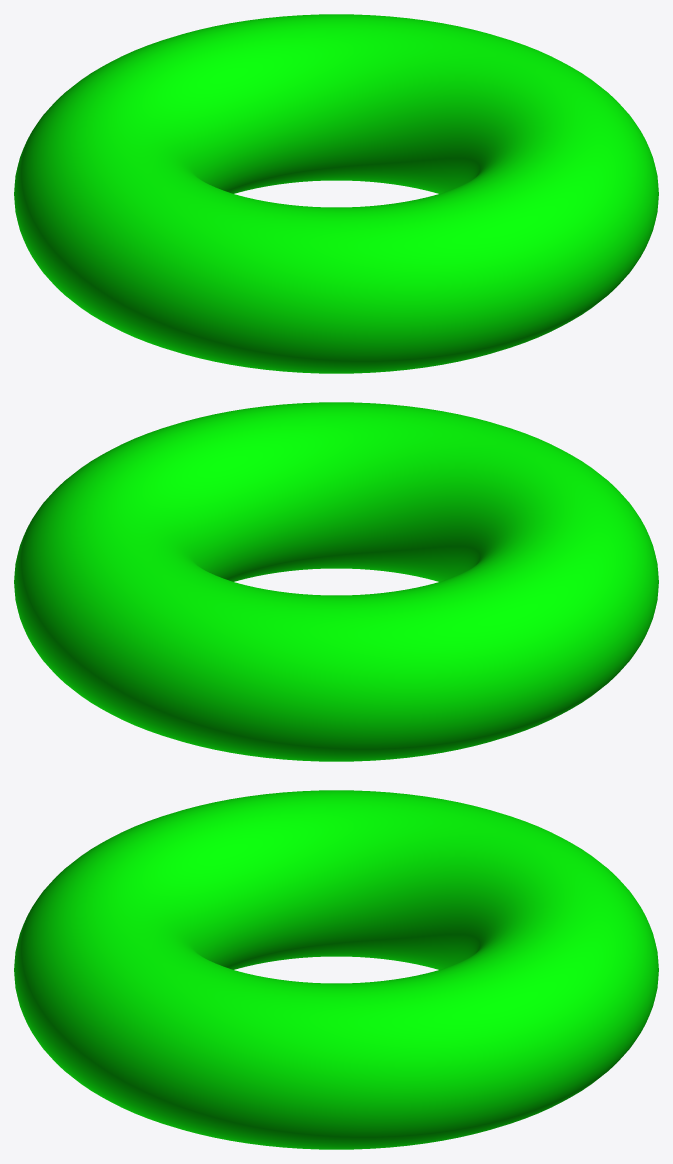
Rendered from ToroideVerde.obj.
The picture shows the model from 3 angles, top to bottom: view 1: azimuth 30°, elevation 25°; view 2: azimuth 150°, elevation 25°; view 3: azimuth 270°, elevation 25°; orthographic projection.
Parts seen in each view (by area): view 1: Torus002; view 2: Torus002; view 3: Torus002.
Boxes of the visible parts, bbox=[...] form: Torus002: bbox=[14, 14, 658, 373]; Torus002: bbox=[14, 402, 658, 761]; Torus002: bbox=[14, 790, 658, 1149].
Bounding box in the file's own units: 20 × 5 × 20.
Materials: 1 (1 with a texture image).
